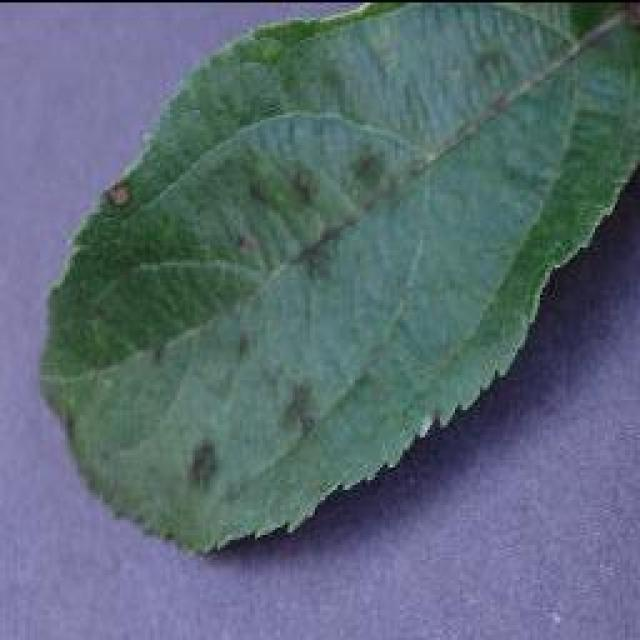apple scab disease: (35, 0, 637, 558)
